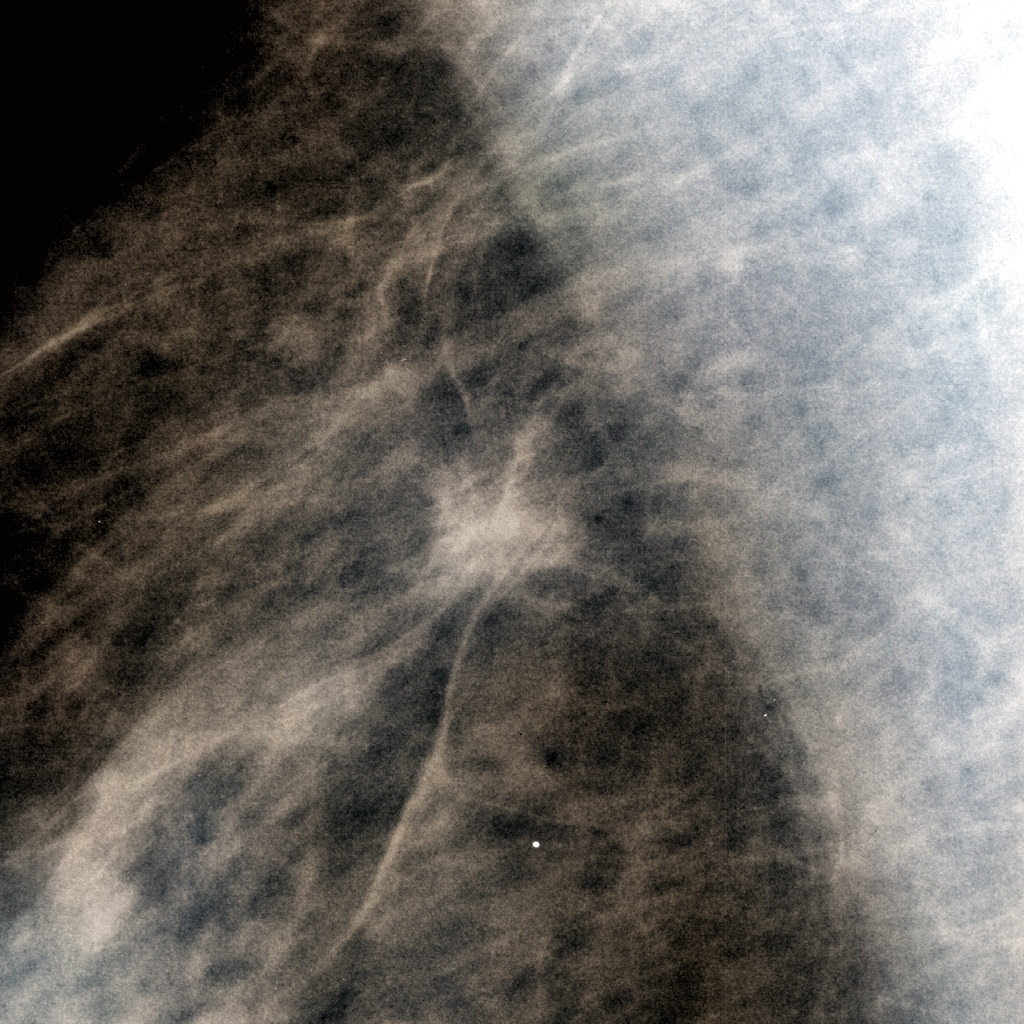tumor: (420, 410, 604, 614)
